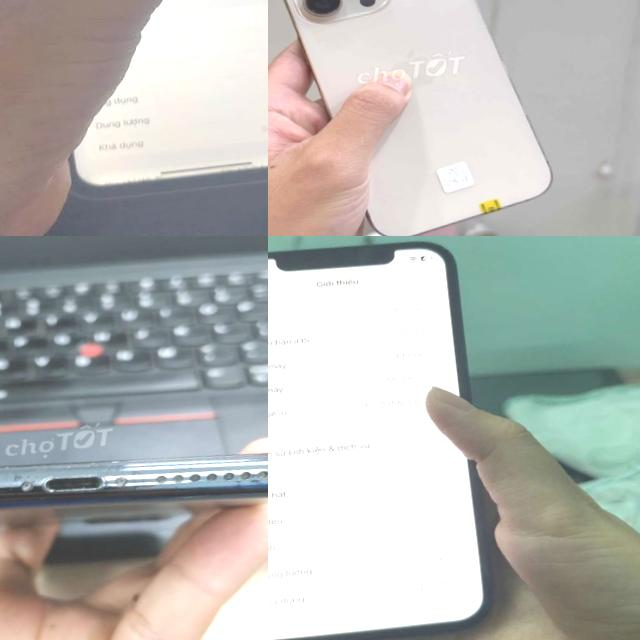gen_11: (0, 0, 268, 198), (0, 403, 268, 586)
gen_12_13: (268, 236, 522, 640)
gen_16: (268, 0, 578, 236)
scratch: (0, 432, 173, 528)
